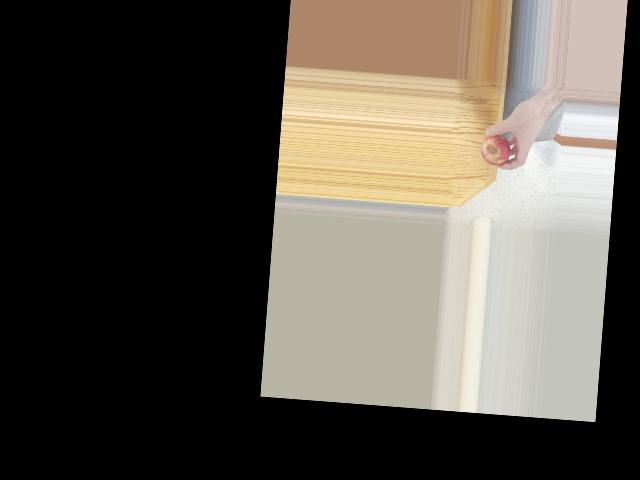apple: (479, 131, 511, 168)
